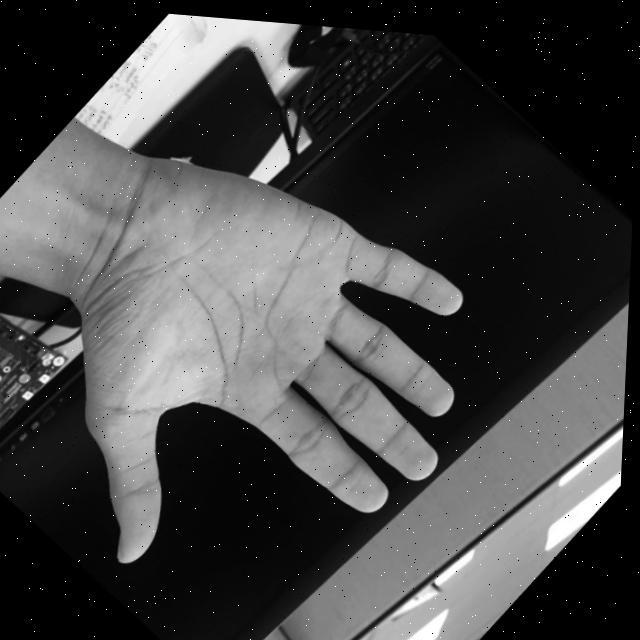no-gloves: (0, 64, 550, 640)
